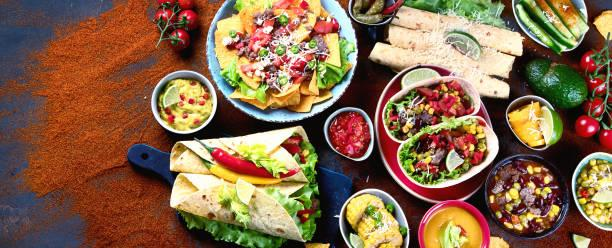Braised Crucian Carp: (129, 137, 349, 247), (206, 1, 353, 125), (375, 63, 498, 203), (485, 153, 570, 238)
